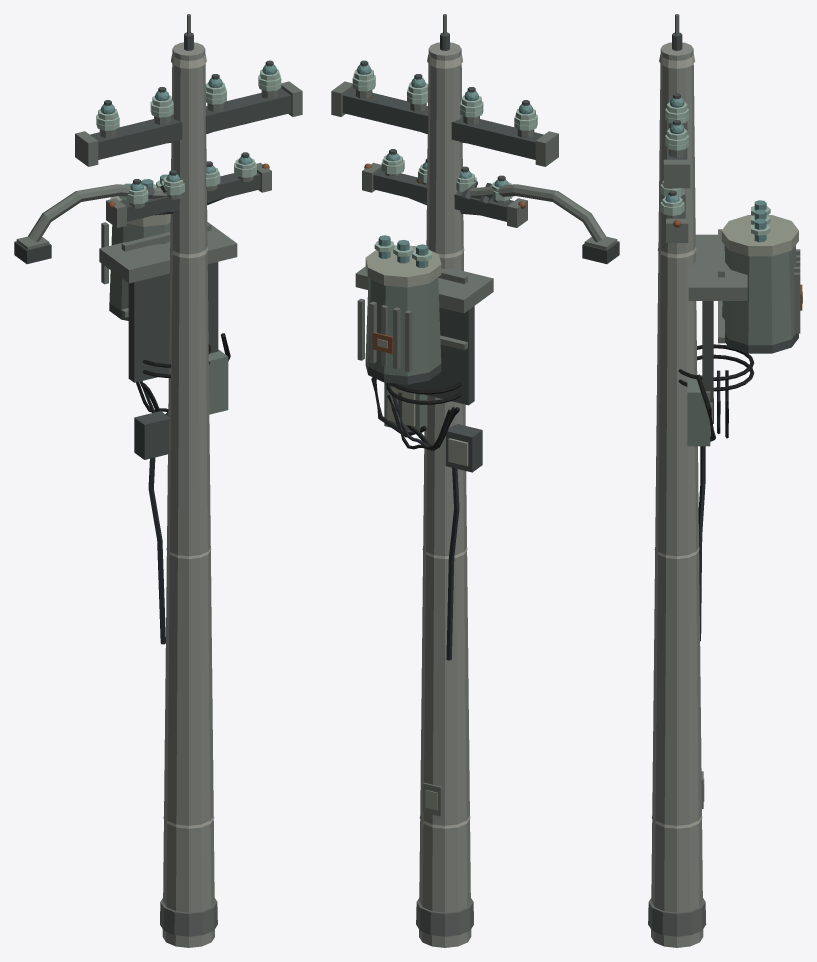
The model's file is PH_UtilityPole_WithStreetlight.obj.
The picture shows the model from 3 angles, left to right: view 1: azimuth 30°, elevation 25°; view 2: azimuth 150°, elevation 25°; view 3: azimuth 270°, elevation 25°; orthographic projection.
Visible parts, largest first — view 1: PhilippinePole_Merged; view 2: PhilippinePole_Merged; view 3: PhilippinePole_Merged.
Part boxes in pixels (left/top/right/bottom): PhilippinePole_Merged: left=14, top=14, right=302, bottom=947; PhilippinePole_Merged: left=331, top=14, right=619, bottom=947; PhilippinePole_Merged: left=648, top=14, right=802, bottom=947.
Bounding box in the file's own units: 2.79 × 8.93 × 1.36.
1 material, 1 textured.
